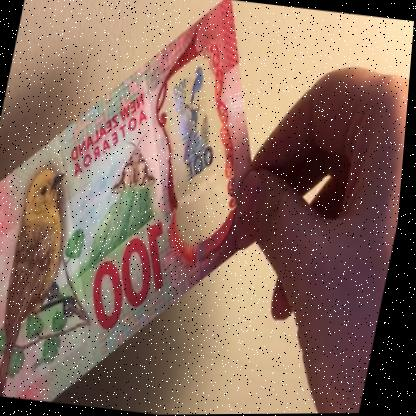100B: (156, 60, 236, 192)
